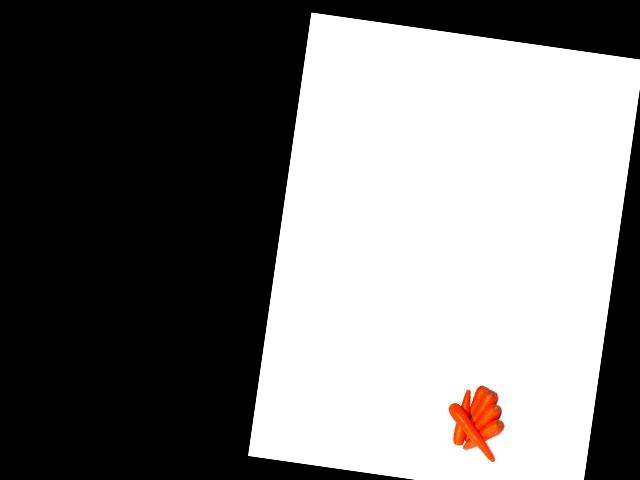carrot: (461, 417, 509, 460)
